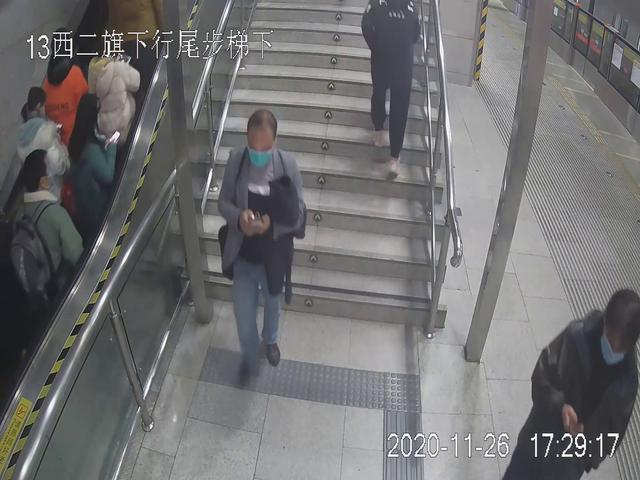person: (517, 271, 640, 480), (213, 108, 301, 391), (355, 1, 444, 173), (1, 142, 91, 298), (61, 95, 124, 246)
